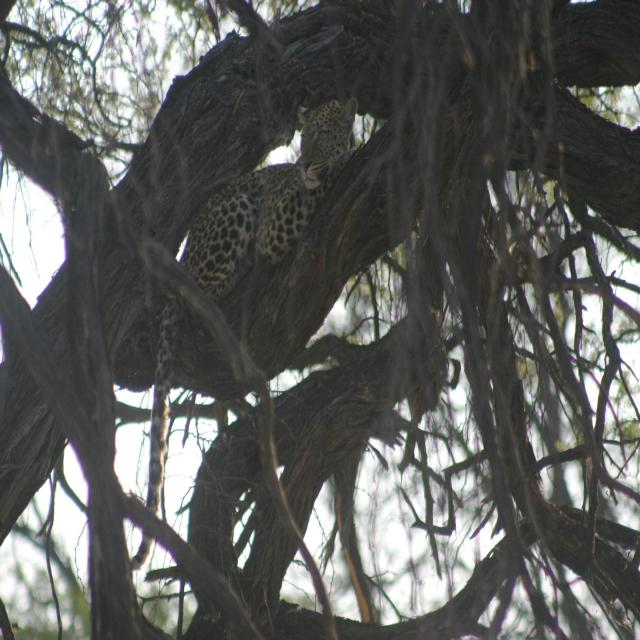Leopard: (137, 85, 360, 569)
